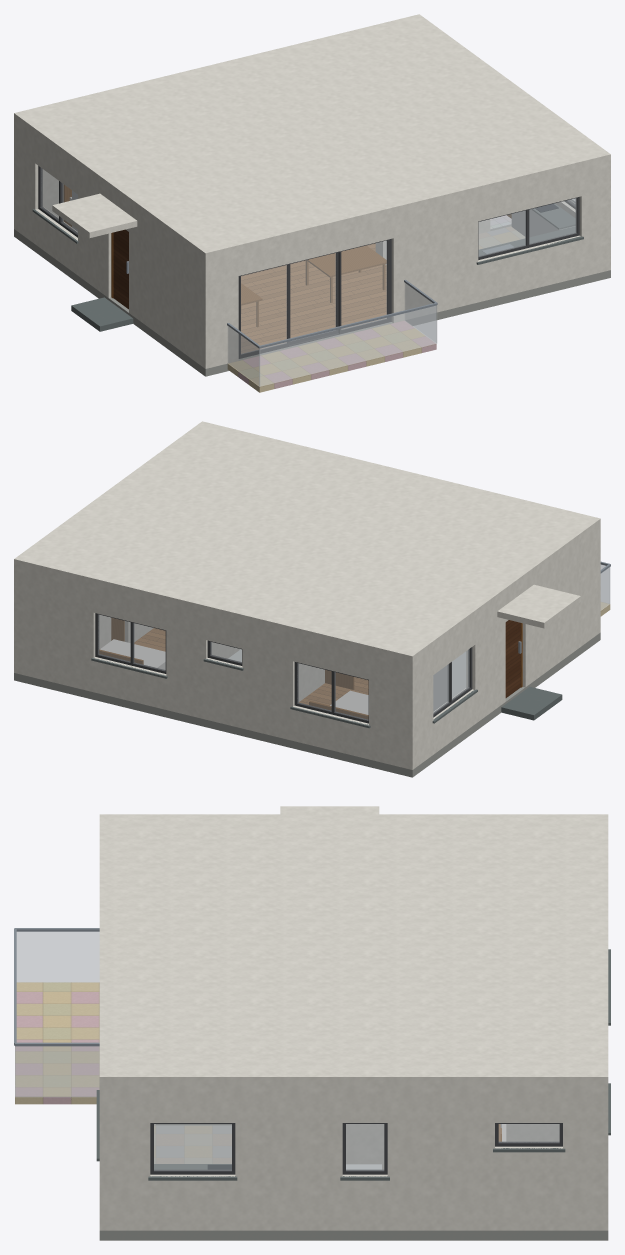
File: ivory-residence.glb
3 views of the same model, one above another, from view 1: azimuth 30°, elevation 25°; view 2: azimuth 150°, elevation 25°; view 3: azimuth 270°, elevation 25° (orthographic). The views are drawn at different scales.
Visible parts, largest first — view 1: Roof slab, Wall, Sliding door glazing, Balcony glass balustrade, Living / dining floor, Balcony paving, Window glazing, Ground floor slab, Entrance canopy, Sliding door frame, Table top, Entrance step (+7 smaller); view 2: Roof slab, Wall, Window glazing, Ground floor slab, Entrance canopy, Window frame, Mattress, Entrance step, Front door leaf, Wardrobe, Window sill, Bedroom 1 floor (+4 smaller); view 3: Roof slab, Wall, Balcony paving, Balcony glass balustrade, Window glazing, Ground floor slab, Kitchen floor, Window frame, Window sill, Balcony handrail, Entrance canopy.
Boxes of the visible parts, bbox=[...] form: Roof slab: bbox=[14, 14, 610, 260]; Wall: bbox=[14, 121, 610, 368]; Sliding door glazing: bbox=[241, 240, 387, 353]; Balcony glass balustrade: bbox=[227, 283, 437, 386]; Living / dining floor: bbox=[241, 243, 386, 353]; Balcony paving: bbox=[227, 320, 436, 392]; Window glazing: bbox=[41, 168, 576, 256]; Ground floor slab: bbox=[14, 225, 610, 376]; Entrance canopy: bbox=[52, 193, 137, 238]; Sliding door frame: bbox=[239, 240, 389, 358]; Table top: bbox=[241, 245, 386, 305]; Entrance step: bbox=[71, 297, 133, 331]; Roof slab: bbox=[14, 421, 600, 663]; Wall: bbox=[14, 526, 600, 769]; Window glazing: bbox=[98, 614, 469, 719]; Ground floor slab: bbox=[14, 632, 600, 777]; Entrance canopy: bbox=[497, 584, 580, 628]; Window frame: bbox=[95, 613, 472, 723]; Mattress: bbox=[100, 639, 368, 714]; Entrance step: bbox=[501, 686, 562, 720]; Front door leaf: bbox=[505, 620, 520, 697]; Wardrobe: bbox=[433, 651, 466, 711]; Window sill: bbox=[91, 658, 477, 728]; Bedroom 1 floor: bbox=[299, 677, 368, 705]; Roof slab: bbox=[99, 814, 608, 1086]; Wall: bbox=[99, 1087, 608, 1230]; Balcony paving: bbox=[15, 982, 99, 1104]; Balcony glass balustrade: bbox=[15, 931, 99, 1097]; Window glazing: bbox=[154, 1124, 559, 1170]; Ground floor slab: bbox=[99, 1124, 608, 1240]; Kitchen floor: bbox=[154, 1125, 231, 1163]; Window frame: bbox=[150, 1123, 562, 1174]; Window sill: bbox=[96, 949, 610, 1180]; Balcony handrail: bbox=[14, 928, 99, 1046]; Entrance canopy: bbox=[280, 806, 379, 814].
Size of the model in its own units: 12.35 by 3.2 by 10.57.
16 materials, 16 textured.
